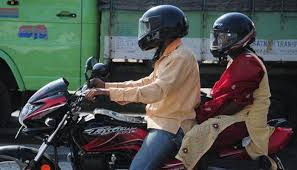helmet: (136, 6, 190, 52), (208, 13, 259, 57)
